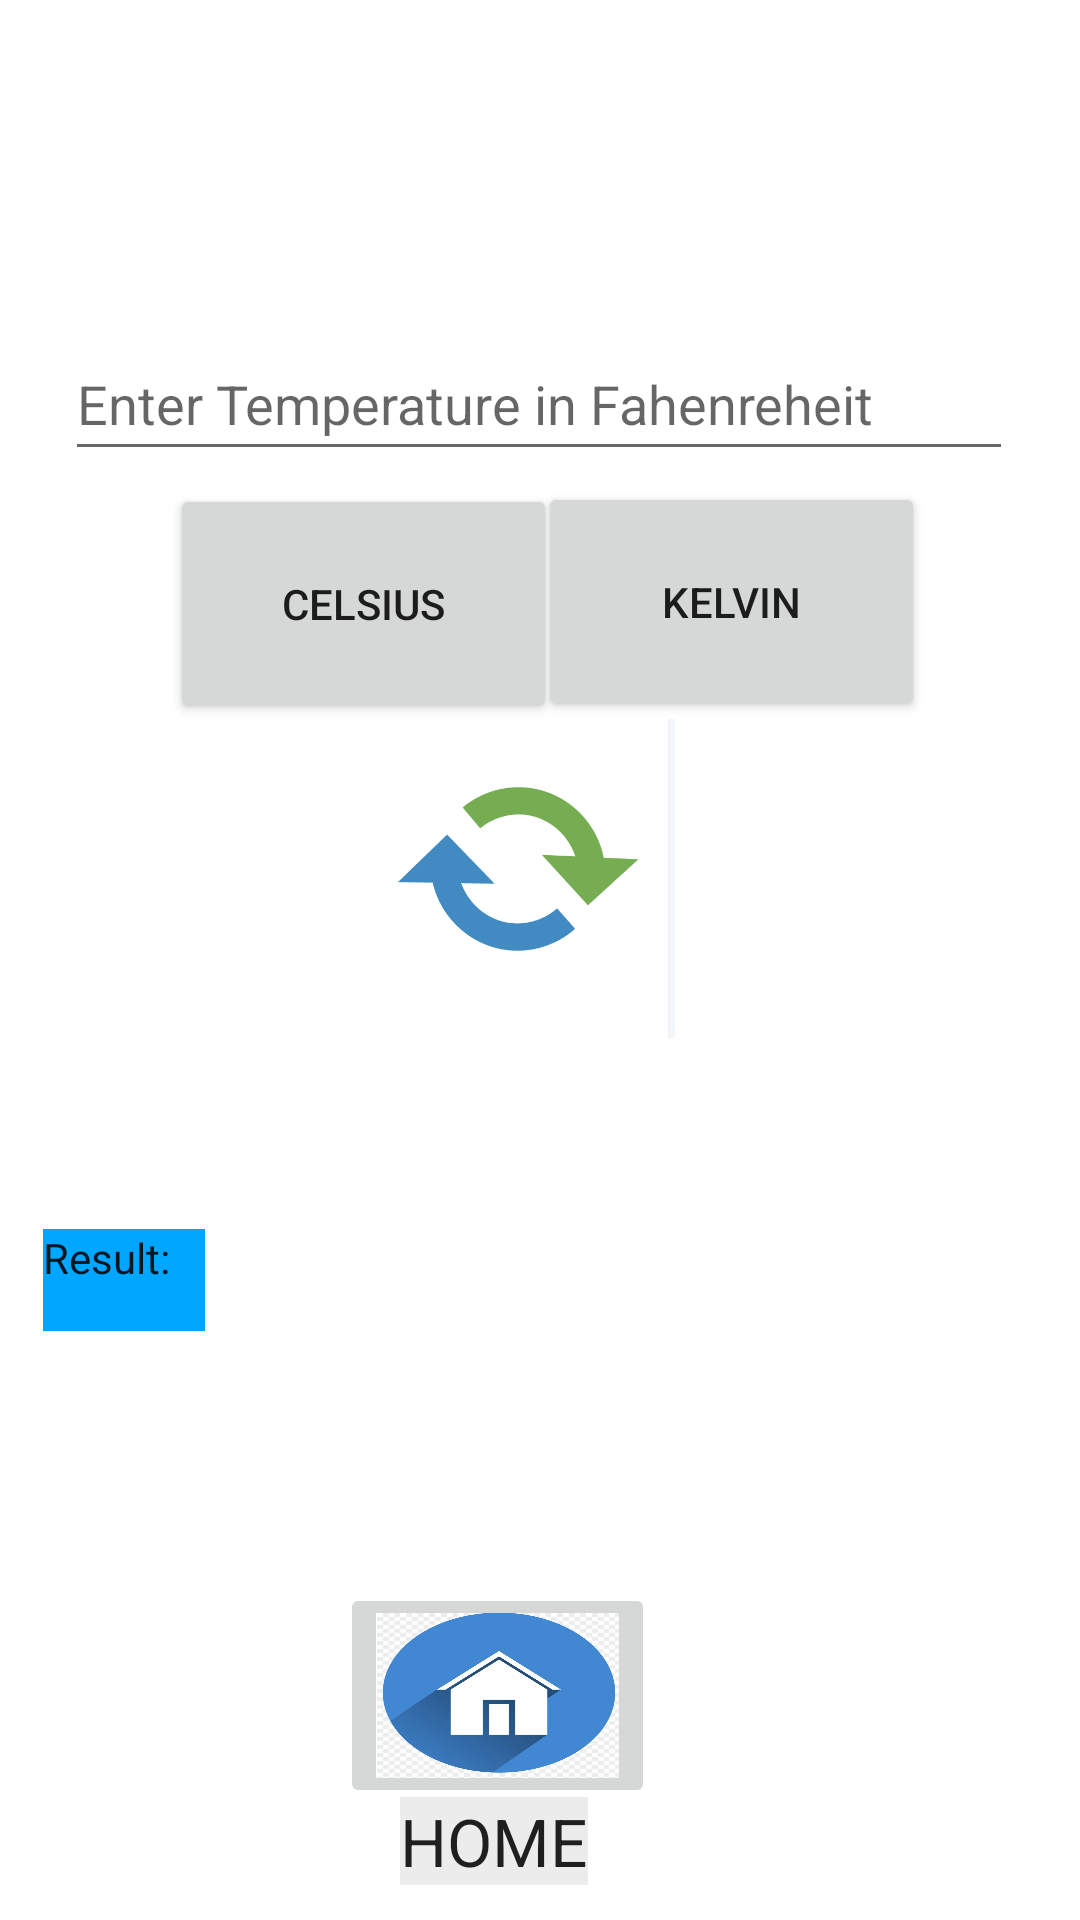

Point at icon controls on the screen. Image size 1080w x 1920h, points as (x=x, y=y).
conversionicon: (x=518, y=869)
